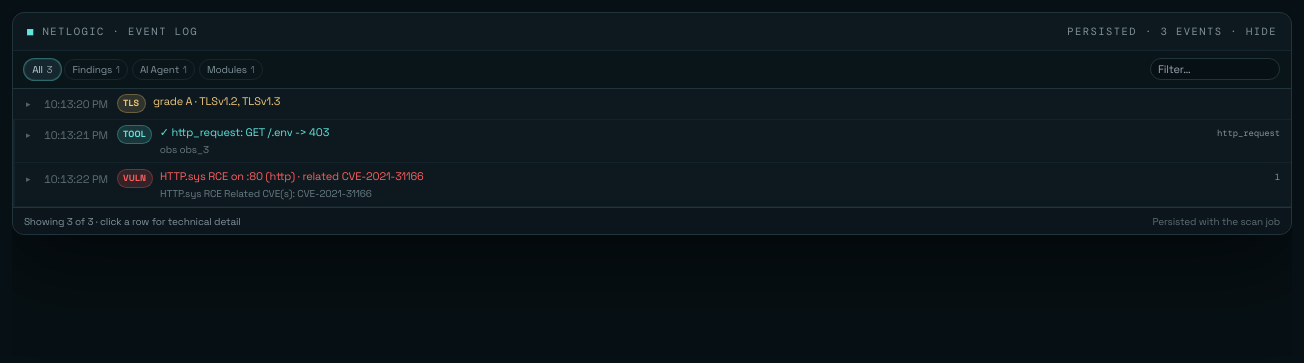
ScanFeed — click to expand technical detail › reveals the technical panel only after a row is clicked
Click the text "grade A · TLSv1.2, TLSv1.3" at (216, 101), box [153,94,280,108]
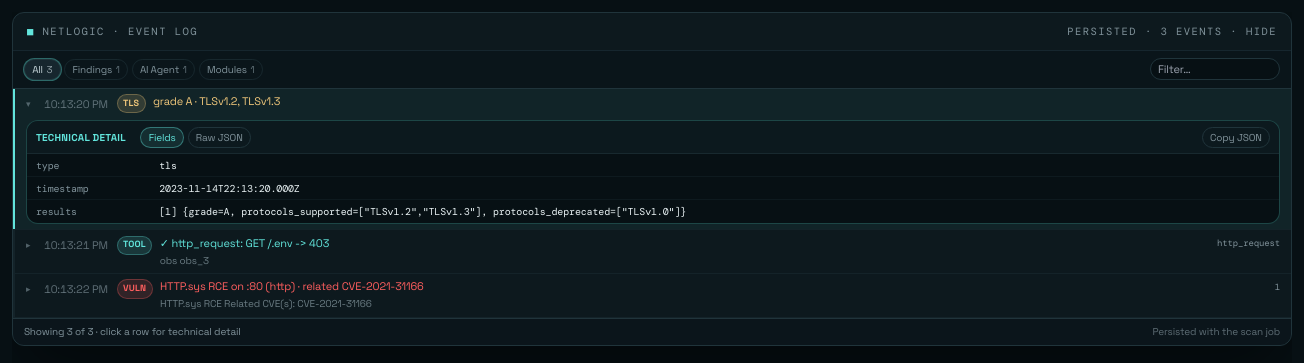
Check: the text "Technical detail" is shown, box [36,130,126,145]
